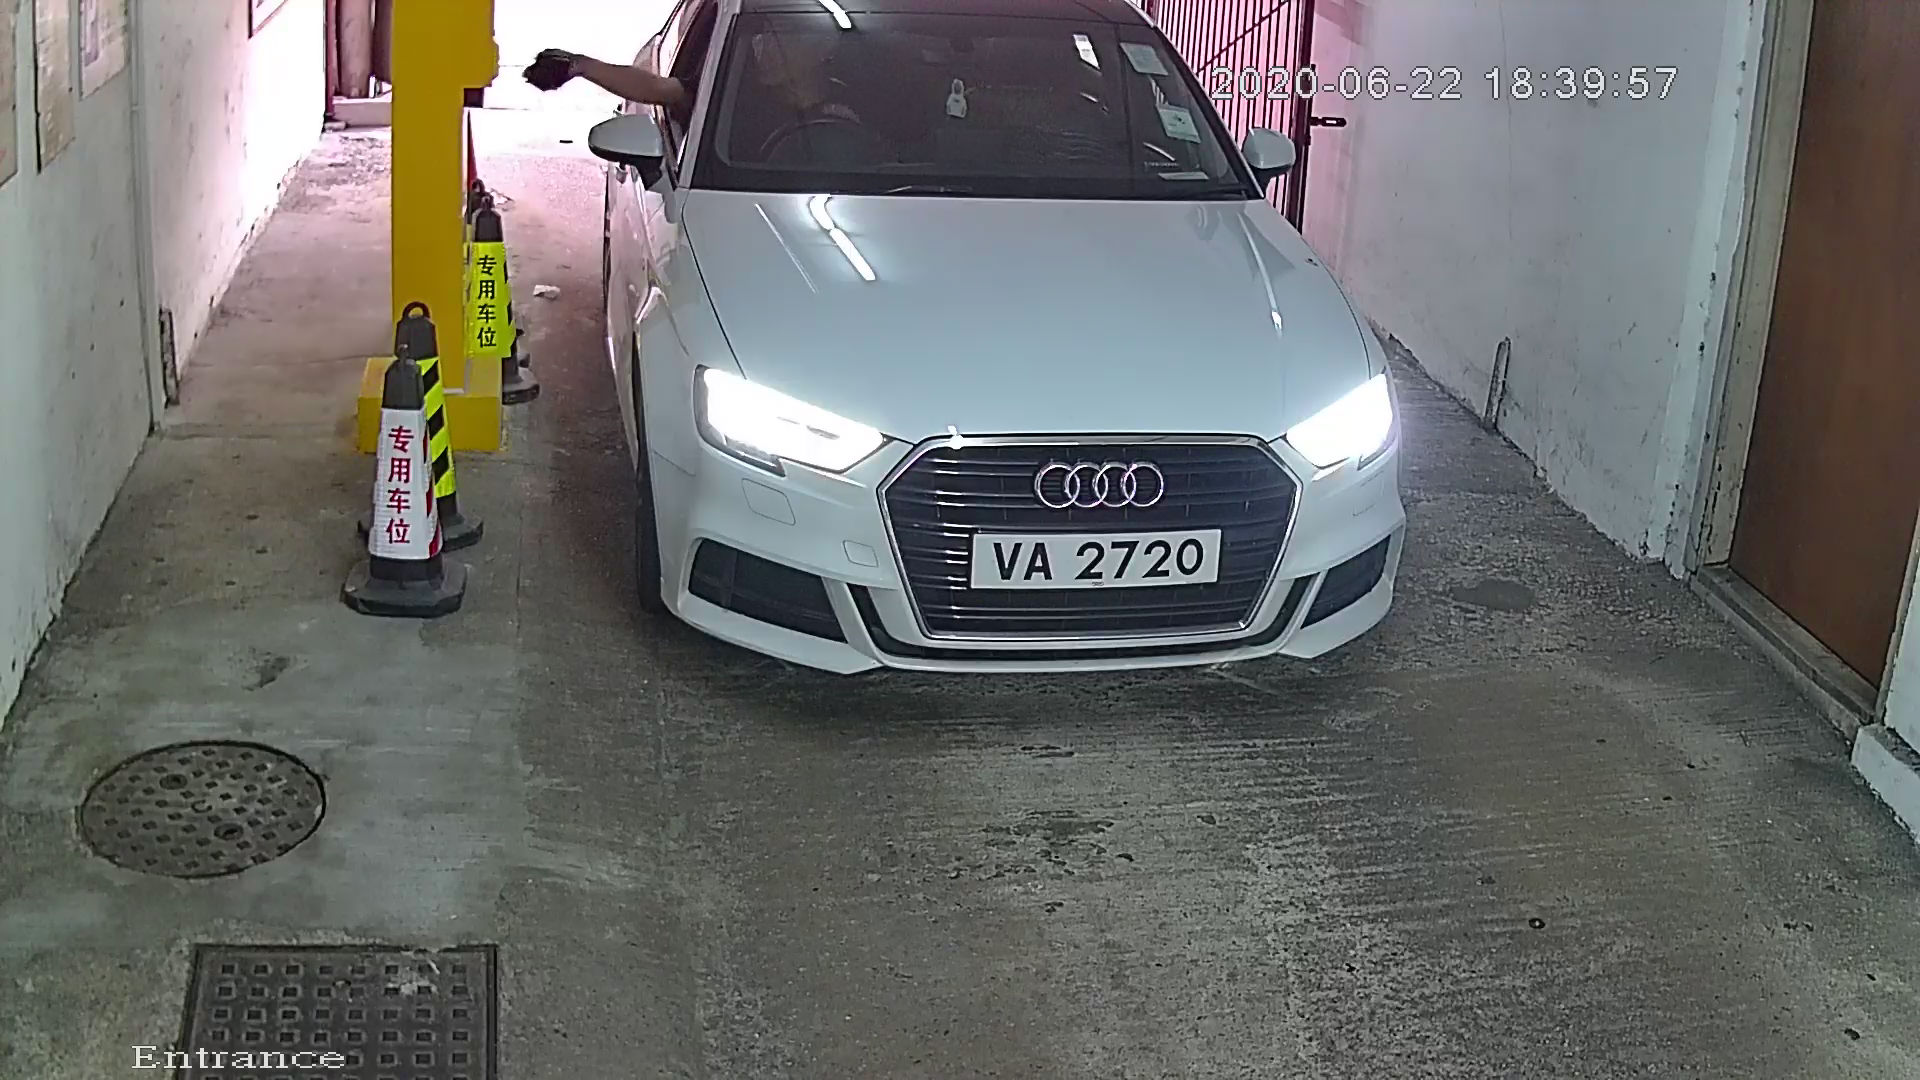privatecar: (560, 1, 1439, 746)
